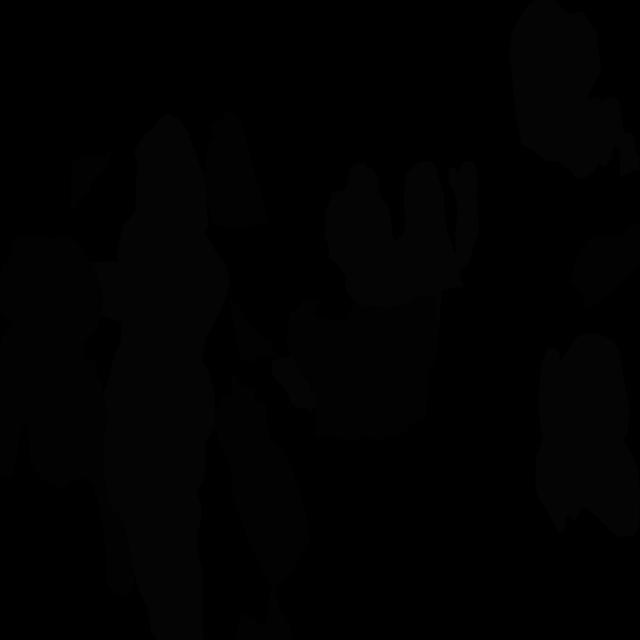cardboard: (0, 235, 134, 596), (286, 295, 438, 441), (213, 371, 310, 588), (204, 111, 269, 229), (570, 221, 640, 309), (234, 588, 295, 640), (230, 298, 278, 362), (70, 151, 111, 210)
soft_plastic: (91, 113, 229, 640), (324, 161, 479, 332), (509, 0, 640, 180), (535, 332, 640, 538), (271, 355, 318, 412)
